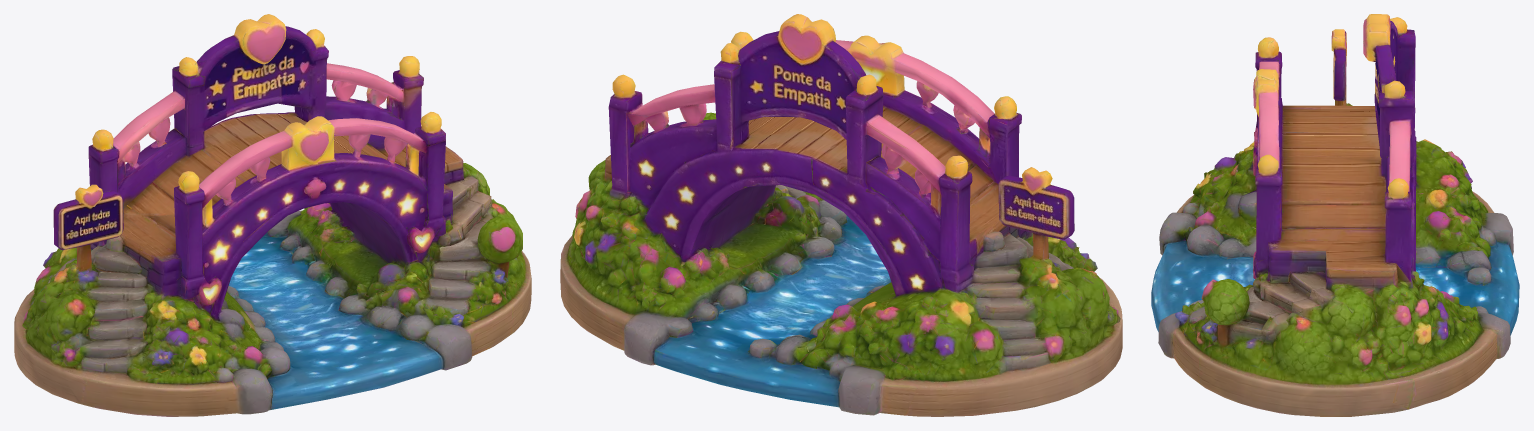
The model's file is ponte.glb.
3 renders of one model, left to right at view 1: azimuth 30°, elevation 25°; view 2: azimuth 150°, elevation 25°; view 3: azimuth 270°, elevation 25°, orthographic. The views are drawn at different scales.
Visible parts, largest first — view 1: ar-normalized; view 2: ar-normalized; view 3: ar-normalized.
Boxes of the visible parts, <box> form: ar-normalized: <box>14,14,531,416</box>; ar-normalized: <box>560,14,1122,416</box>; ar-normalized: <box>1151,14,1519,416</box>.
Size of the model in its own units: 1.72 by 1 by 1.15.
1 material, 1 textured.
